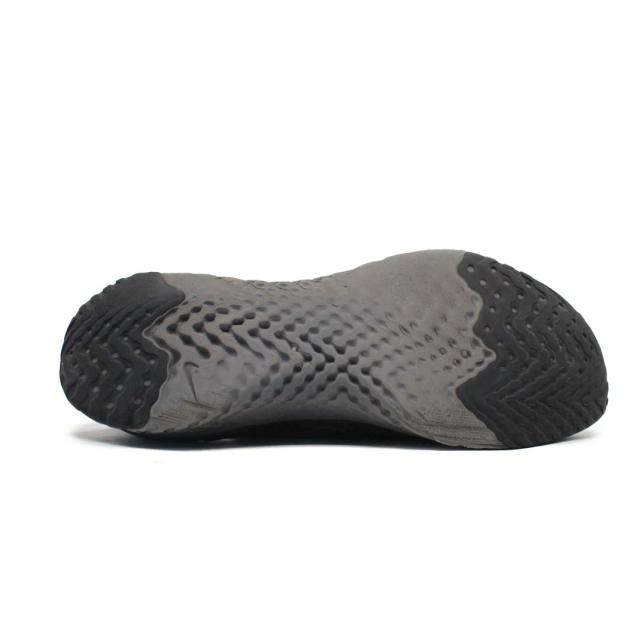outersole: (57, 248, 609, 448)
